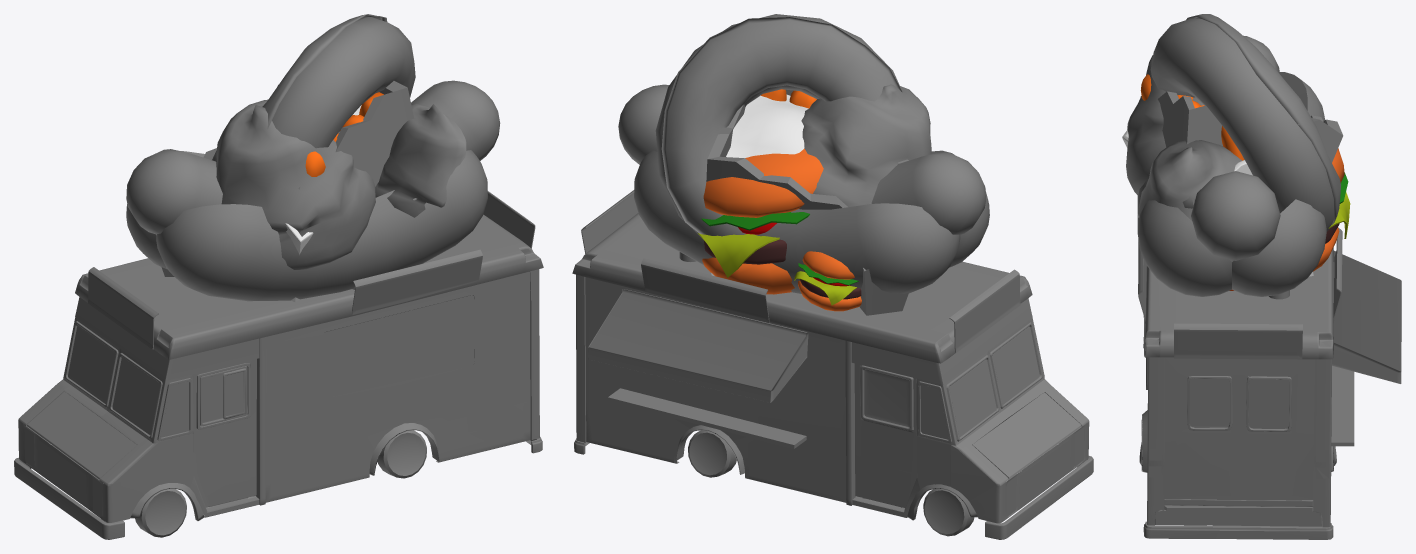
File: CarLvl2.FBX
3 views of the same model, side by side, from view 1: azimuth 30°, elevation 25°; view 2: azimuth 150°, elevation 25°; view 3: azimuth 270°, elevation 25° (orthographic).
Parts seen in each view (by area): view 1: Car, HotDogCar, DonudurmaCar, DonutCar, Box006, Patato001; view 2: Car, HotDogCar, DonutCar, DonudurmaCar, BurgerCar, Plane004, Box006, BurgerCar001, Box007; view 3: Car, HotDogCar, DonutCar, DonudurmaCar, Box006, BurgerCar, Patato001.
Boxes of the visible parts, left/top/right/bottom form: Car: left=14, top=191, right=543, bottom=539; HotDogCar: left=126, top=80, right=500, bottom=301; DonudurmaCar: left=212, top=99, right=466, bottom=269; DonutCar: left=262, top=14, right=415, bottom=148; Box006: left=203, top=81, right=414, bottom=289; Patato001: left=305, top=92, right=383, bottom=176; Car: left=572, top=190, right=1093, bottom=539; HotDogCar: left=618, top=84, right=989, bottom=293; DonutCar: left=655, top=14, right=901, bottom=261; DonudurmaCar: left=801, top=84, right=931, bottom=206; BurgerCar: left=698, top=148, right=823, bottom=294; Plane004: left=726, top=94, right=808, bottom=157; Box006: left=706, top=89, right=871, bottom=209; BurgerCar001: left=794, top=251, right=861, bottom=311; Box007: left=859, top=268, right=908, bottom=315; Car: left=1138, top=228, right=1401, bottom=539; HotDogCar: left=1137, top=35, right=1326, bottom=296; DonutCar: left=1150, top=14, right=1340, bottom=299; DonudurmaCar: left=1126, top=55, right=1241, bottom=290; Box006: left=1140, top=91, right=1343, bottom=162; BurgerCar: left=1313, top=148, right=1350, bottom=271; Patato001: left=1140, top=74, right=1244, bottom=160.
Bounding box in the file's own units: 1689 × 1594 × 924.
